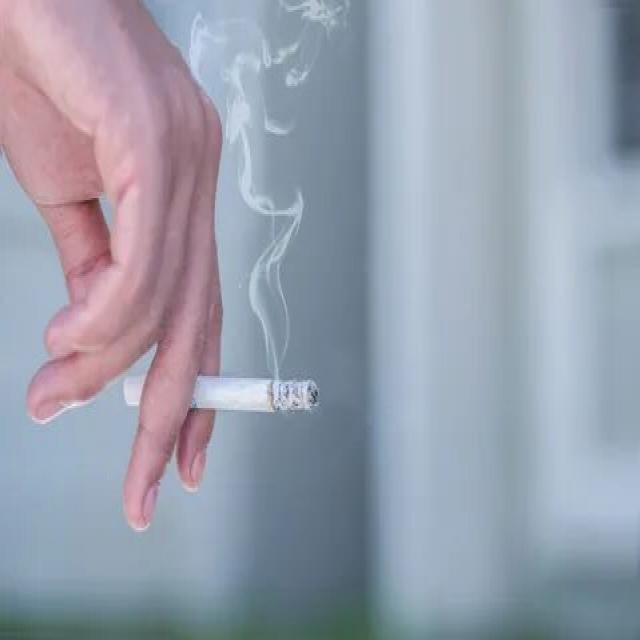cigarette: (122, 370, 324, 420)
